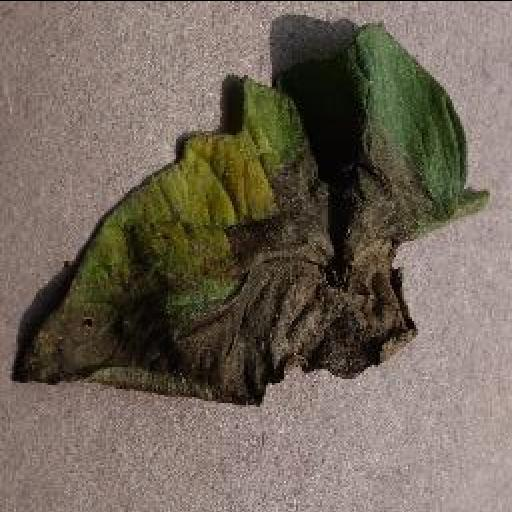disease_tomato: (11, 14, 473, 410)
